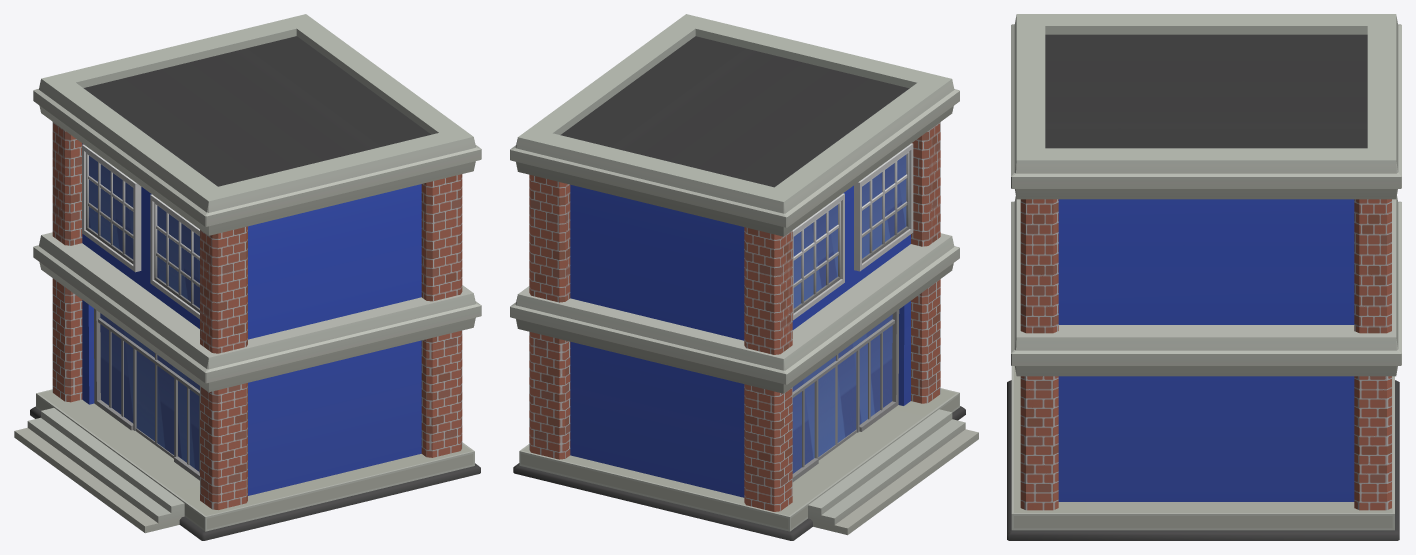
Rendered from Building_9_2_A.fbx.
3 views of the same model, side by side, from view 1: azimuth 30°, elevation 25°; view 2: azimuth 150°, elevation 25°; view 3: azimuth 270°, elevation 25° (orthographic). The views are drawn at different scales.
Visible parts, largest first — view 1: Building_9_2_A; view 2: Building_9_2_A; view 3: Building_9_2_A.
Part boxes in pixels (bbox=[...]): Building_9_2_A: bbox=[14, 14, 481, 540]; Building_9_2_A: bbox=[510, 14, 978, 540]; Building_9_2_A: bbox=[1007, 14, 1401, 540].
Size of the model in its own units: 947 by 958 by 906.
